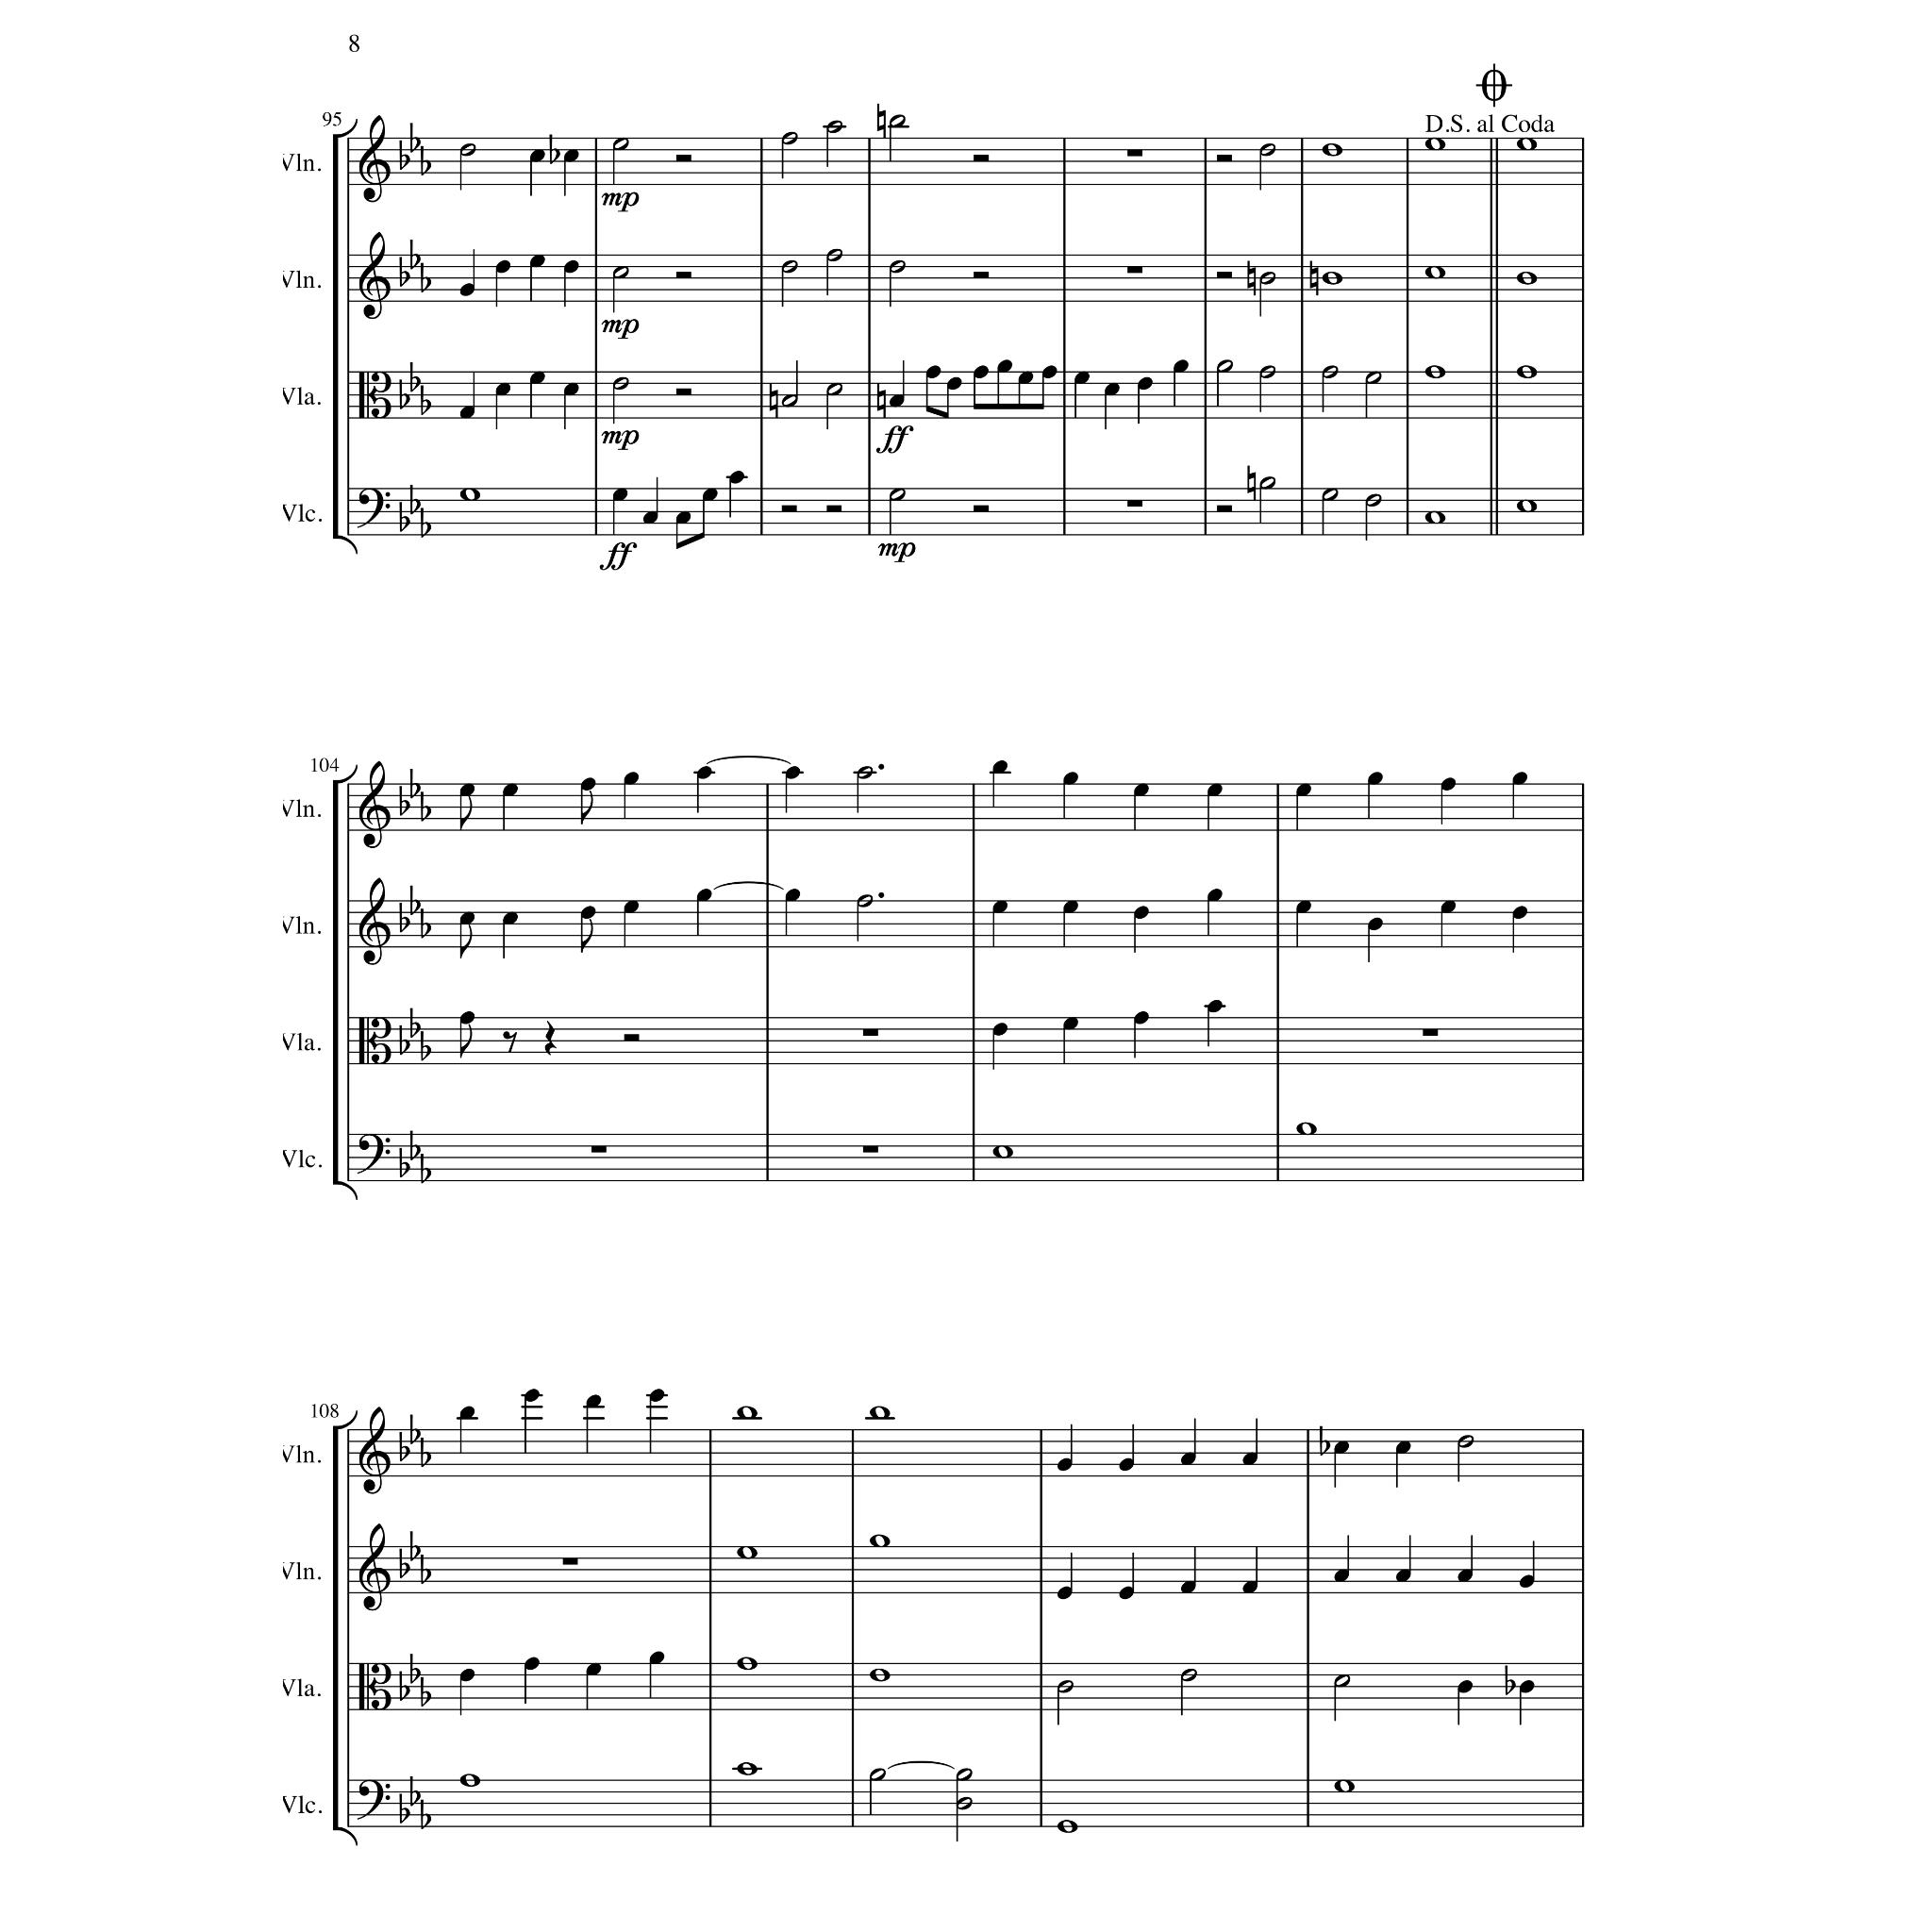fClef: (357, 488, 391, 529), (357, 1134, 391, 1175), (357, 1780, 391, 1821)
flag8thDown: (580, 918, 593, 954), (460, 1024, 472, 1058), (460, 925, 472, 959), (580, 791, 593, 824), (460, 796, 472, 830)
gClef: (359, 115, 391, 203), (359, 761, 391, 849), (359, 878, 391, 966), (359, 1523, 391, 1612), (359, 1407, 391, 1495), (359, 232, 391, 318)
noteheadBlack: (1074, 372, 1090, 386), (996, 359, 1012, 373), (1017, 372, 1033, 386), (1173, 359, 1189, 373), (1138, 377, 1154, 391), (1104, 382, 1120, 396), (612, 488, 628, 502), (564, 149, 580, 163), (564, 260, 580, 274), (564, 382, 580, 396), (458, 283, 474, 297), (458, 405, 474, 419), (529, 149, 545, 163), (529, 372, 545, 386), (495, 260, 511, 274), (495, 382, 511, 396), (729, 471, 745, 485), (1134, 784, 1150, 798), (1207, 1000, 1223, 1014), (1207, 888, 1223, 902), (1295, 784, 1311, 798), (1207, 784, 1223, 798), (1440, 777, 1456, 791), (502, 784, 518, 798), (580, 777, 596, 791), (458, 784, 474, 798), (695, 888, 711, 902), (784, 888, 800, 902), (1180, 1451, 1196, 1465), (1334, 1440, 1350, 1454), (1242, 1451, 1258, 1465), (1118, 1458, 1134, 1472), (1394, 1440, 1410, 1454), (586, 1663, 602, 1677), (586, 1394, 602, 1408), (524, 1656, 540, 1670), (458, 1668, 474, 1683), (1056, 1458, 1072, 1472), (971, 366, 989, 379), (1511, 906, 1529, 918), (1511, 773, 1529, 786), (947, 377, 961, 391), (702, 488, 717, 502), (1040, 366, 1056, 379), (676, 511, 692, 524), (642, 511, 658, 524), (529, 255, 545, 267), (888, 395, 904, 407), (925, 366, 941, 379), (1134, 1012, 1150, 1024), (1134, 906, 1150, 918), (1295, 901, 1311, 913), (1063, 901, 1079, 913), (1063, 1017, 1079, 1030), (1063, 773, 1079, 786), (1368, 918, 1384, 931), (1440, 901, 1456, 913), (1368, 773, 1384, 786), (502, 913, 518, 925), (580, 906, 596, 918), (458, 1012, 474, 1024), (458, 913, 474, 925), (993, 1023, 1008, 1035), (993, 901, 1008, 913), (993, 761, 1008, 773), (623, 773, 639, 786), (695, 766, 711, 778), (623, 901, 639, 913), (784, 766, 800, 778), (1180, 1582, 1196, 1594), (1334, 1569, 1350, 1582), (1242, 1582, 1258, 1594), (1118, 1587, 1134, 1599), (1518, 1681, 1534, 1693), (1518, 1575, 1534, 1587), (1458, 1681, 1474, 1693), (1458, 1569, 1474, 1582), (1394, 1569, 1410, 1582), (524, 1389, 540, 1401), (649, 1652, 665, 1665), (649, 1389, 665, 1401), (458, 1407, 474, 1419), (1056, 1587, 1072, 1599)
noteheadHalf: (1322, 488, 1339, 502), (1258, 143, 1276, 157), (1215, 359, 1233, 373), (612, 377, 630, 391), (612, 265, 630, 280), (888, 115, 906, 129), (888, 260, 906, 274), (888, 488, 906, 502), (780, 260, 798, 274), (1180, 1668, 1198, 1683), (1334, 1674, 1352, 1688), (869, 1767, 886, 1782), (955, 1767, 973, 1782), (1366, 372, 1382, 386), (1366, 494, 1382, 508), (460, 143, 476, 157), (826, 120, 842, 134), (826, 382, 842, 396), (856, 893, 872, 908), (1322, 366, 1339, 379), (1258, 366, 1276, 379), (1258, 272, 1276, 285), (1258, 478, 1276, 490), (612, 138, 630, 150), (780, 133, 798, 145), (780, 395, 798, 407), (1056, 1681, 1074, 1693), (955, 1798, 973, 1810), (826, 249, 842, 262), (856, 766, 872, 778), (1458, 1435, 1474, 1447)
noteheadWhole: (458, 488, 481, 502), (458, 1773, 481, 1787), (1322, 143, 1343, 157), (1516, 138, 1537, 152), (1516, 366, 1537, 380), (1516, 499, 1537, 513), (1424, 138, 1445, 152), (1424, 265, 1445, 280), (1424, 366, 1445, 380), (993, 1145, 1014, 1159), (736, 1762, 757, 1776), (736, 1546, 757, 1560), (736, 1656, 757, 1670), (869, 1668, 890, 1683), (869, 1534, 890, 1548), (1295, 1123, 1318, 1136), (1322, 272, 1343, 285), (1516, 272, 1537, 285), (1424, 511, 1445, 524), (1334, 1780, 1355, 1792), (736, 1407, 757, 1419), (1056, 1821, 1077, 1833), (869, 1407, 890, 1419)
rest8th: (502, 1031, 517, 1054)
restHalf: (1217, 154, 1233, 163), (1217, 504, 1233, 513), (676, 154, 692, 163), (973, 154, 989, 163), (973, 504, 989, 513), (780, 504, 796, 513), (826, 504, 842, 513), (623, 1033, 639, 1042), (1217, 272, 1233, 280), (676, 272, 692, 280), (676, 389, 692, 396), (973, 272, 989, 280)
restQuarter: (545, 1021, 557, 1056)
restWhole: (563, 1557, 579, 1566), (1127, 501, 1143, 508), (1127, 267, 1143, 274), (1127, 150, 1143, 157), (863, 1030, 879, 1037), (863, 1146, 879, 1154), (1422, 1030, 1438, 1037), (591, 1146, 607, 1154)
